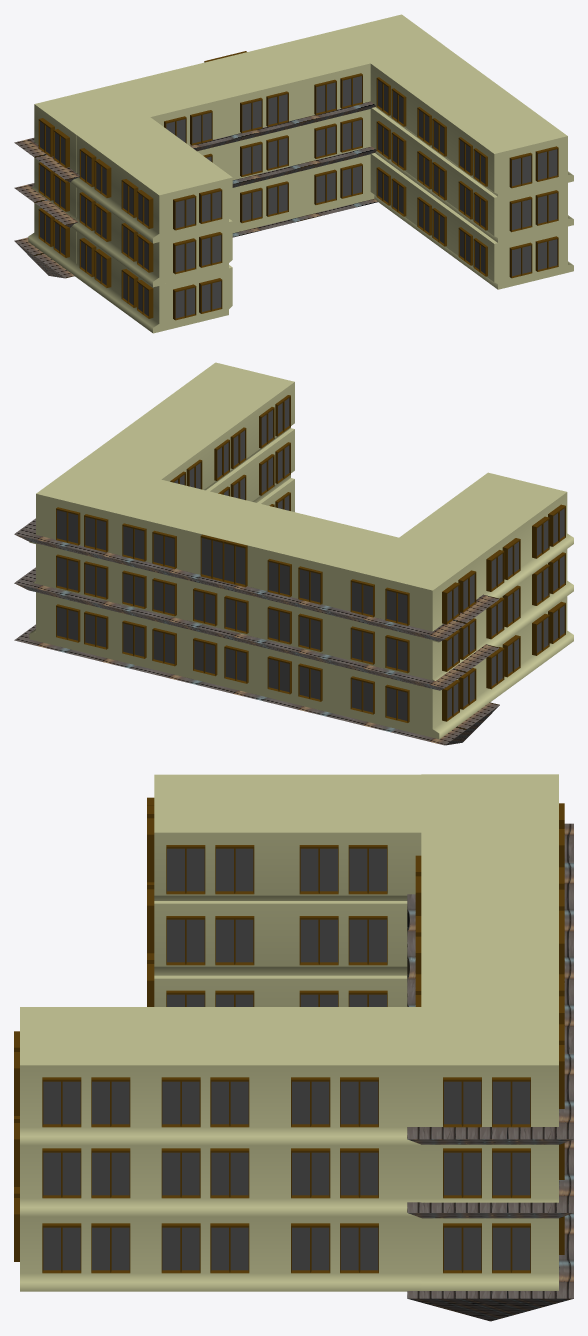
The model's file is mba.fbx.
3 renders of one model, top to bottom at view 1: azimuth 30°, elevation 25°; view 2: azimuth 150°, elevation 25°; view 3: azimuth 270°, elevation 25°, orthographic. The views are drawn at different scales.
Parts seen in each view (by area): view 1: pCube107; view 2: pCube107; view 3: pCube107.
Boxes of the visible parts, x1,y1,x2,y2 form: pCube107: (14,14,573,333); pCube107: (14,362,573,745); pCube107: (14,774,573,1321).
Size of the model in its own units: 5.43 by 2.01 by 4.07.
5 materials, 1 textured.
